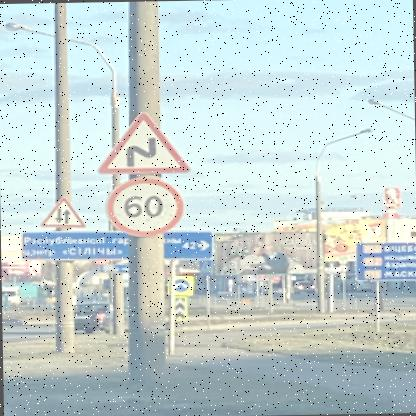speedlimit: (100, 176, 183, 236)
